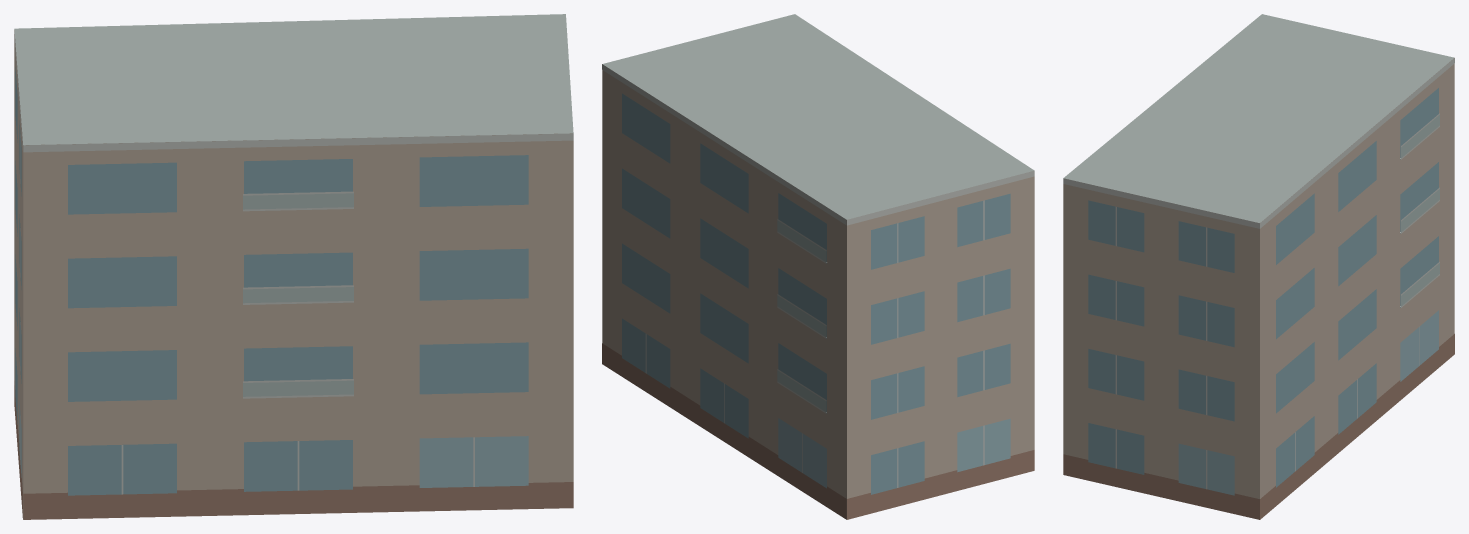
Rendered from survey-upis-32893432.glb.
3 renders of one model, left to right at view 1: azimuth 30°, elevation 25°; view 2: azimuth 150°, elevation 25°; view 3: azimuth 270°, elevation 25°, orthographic. The views are drawn at different scales.
Visible parts, largest first — view 1: survey-upis-32893432.tmp; view 2: survey-upis-32893432.tmp; view 3: survey-upis-32893432.tmp.
Part boxes in pixels (x1,y1,x2,y2): survey-upis-32893432.tmp: (14,14,573,519); survey-upis-32893432.tmp: (602,14,1034,519); survey-upis-32893432.tmp: (1063,14,1454,519).
Size of the model in its own units: 19.22 by 12.7 by 15.2.
